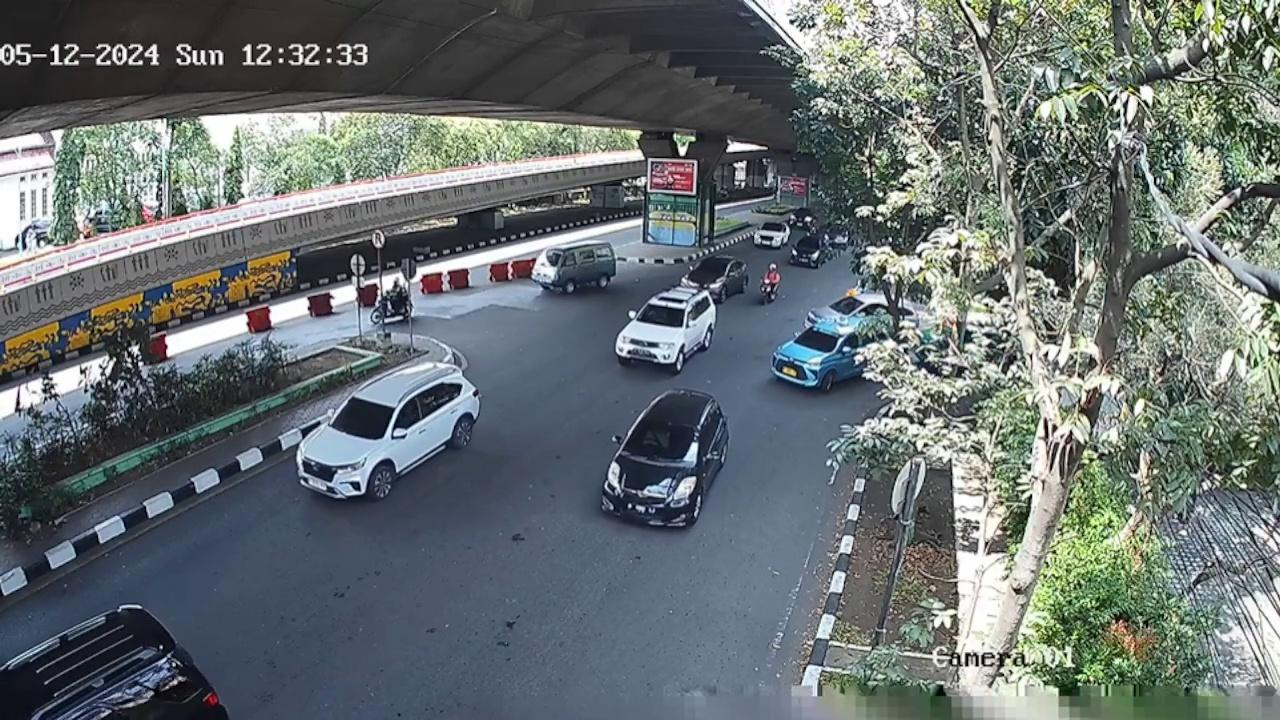pakai: (645, 429, 672, 453)
windshield: (627, 418, 698, 461), (328, 396, 398, 438), (628, 299, 685, 335)
